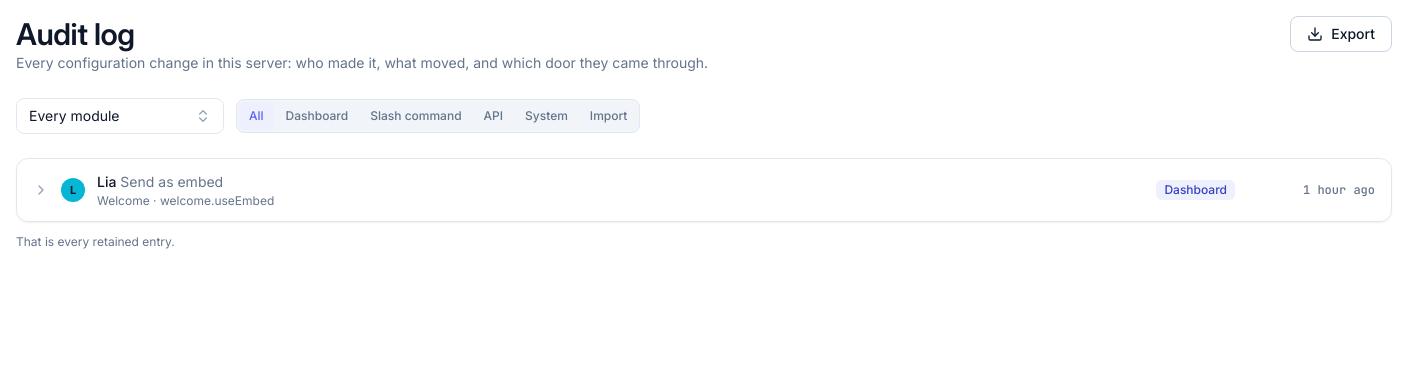
AuditScreen › reads a boolean as on and off rather than true and false
Click the button that starts with "Lia" at (172, 182), box [17,159,1391,221]
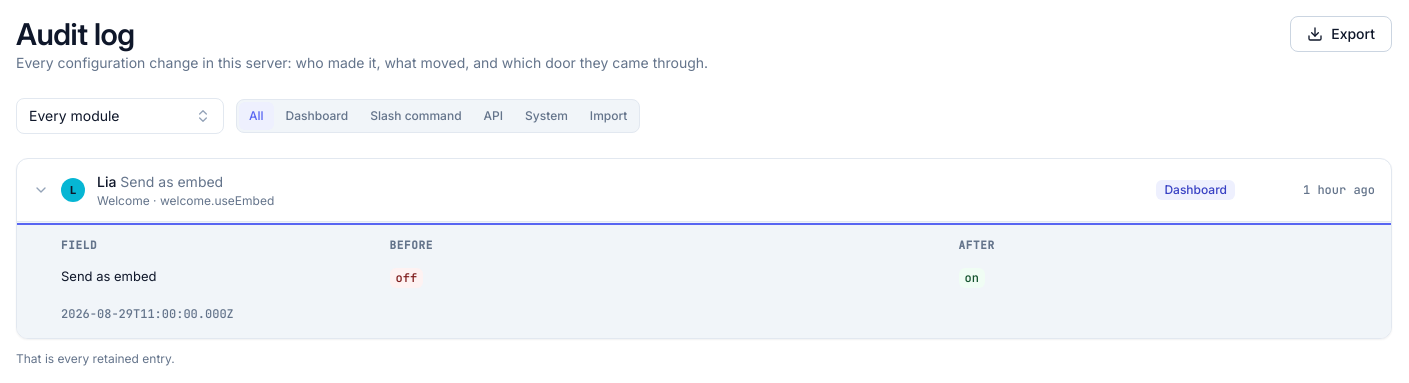
Result: the text "off" is shown at [390,268,423,288]
Result: the text "on" is shown at [958,268,985,288]
